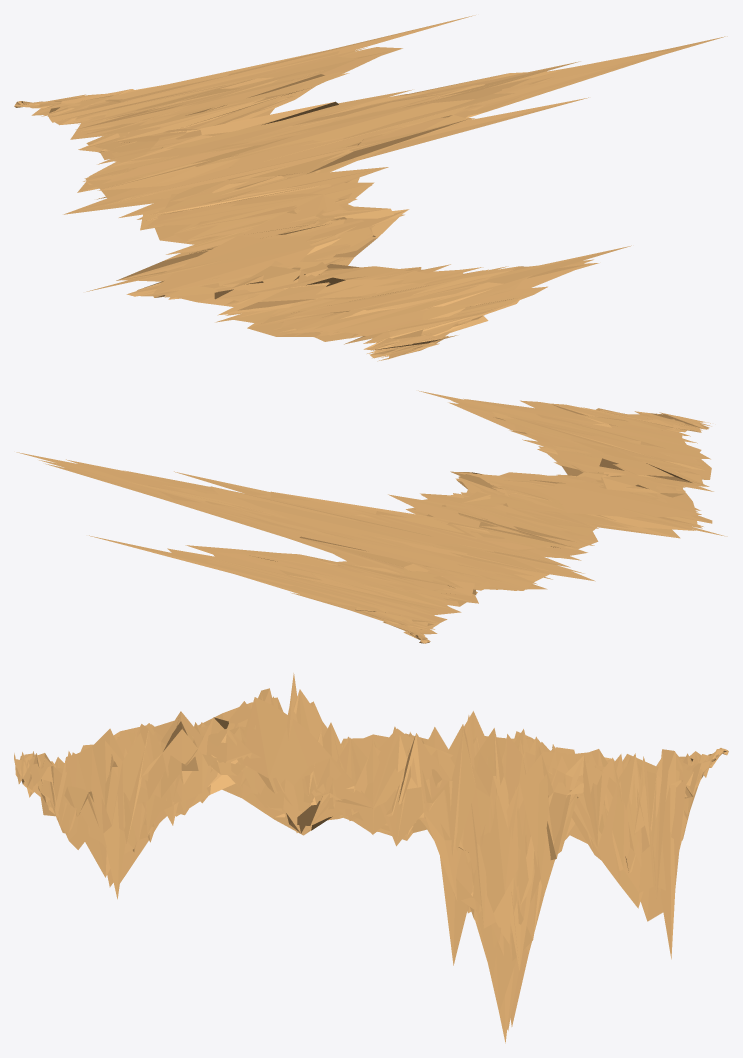
The model's file is Sand2.glb.
3 views of the same model, one above another, from view 1: azimuth 30°, elevation 25°; view 2: azimuth 150°, elevation 25°; view 3: azimuth 270°, elevation 25° (orthographic). The views are drawn at different scales.
Parts seen in each view (by area): view 1: Sand2; view 2: Sand2; view 3: Sand2.
Boxes of the visible parts, x1,y1,x2,y2 form: Sand2: (14,15,727,361); Sand2: (16,390,727,643); Sand2: (14,673,728,1043).
Size of the model in its own units: 11.09 by 0.1637 by 9.1.
